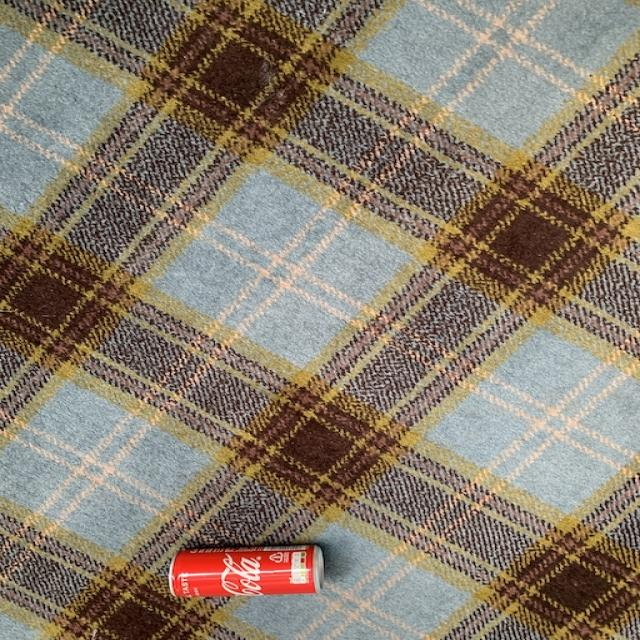litter: (168, 543, 328, 599)
